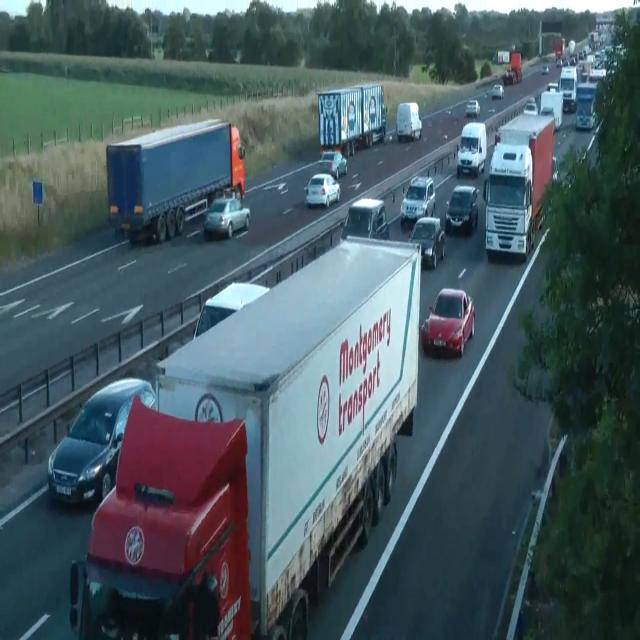bus: (47, 377, 157, 507), (192, 281, 270, 342), (420, 287, 475, 357), (203, 196, 251, 240), (408, 216, 446, 269), (304, 172, 341, 208), (318, 150, 348, 179), (575, 104, 593, 130), (465, 98, 480, 116), (523, 100, 537, 116), (552, 156, 559, 183), (491, 84, 504, 98), (546, 81, 558, 92), (205, 46, 214, 59), (541, 64, 549, 74), (488, 108, 494, 114)
jeep: (68, 398, 252, 638), (340, 196, 390, 242), (400, 174, 436, 225), (444, 184, 478, 234), (456, 121, 486, 177)
minibus: (69, 235, 421, 638), (106, 118, 246, 245), (482, 113, 556, 260), (316, 84, 386, 156), (538, 89, 564, 131), (575, 82, 597, 130), (396, 102, 422, 142), (558, 65, 577, 112), (502, 51, 522, 85), (553, 38, 565, 62), (492, 50, 510, 64)
